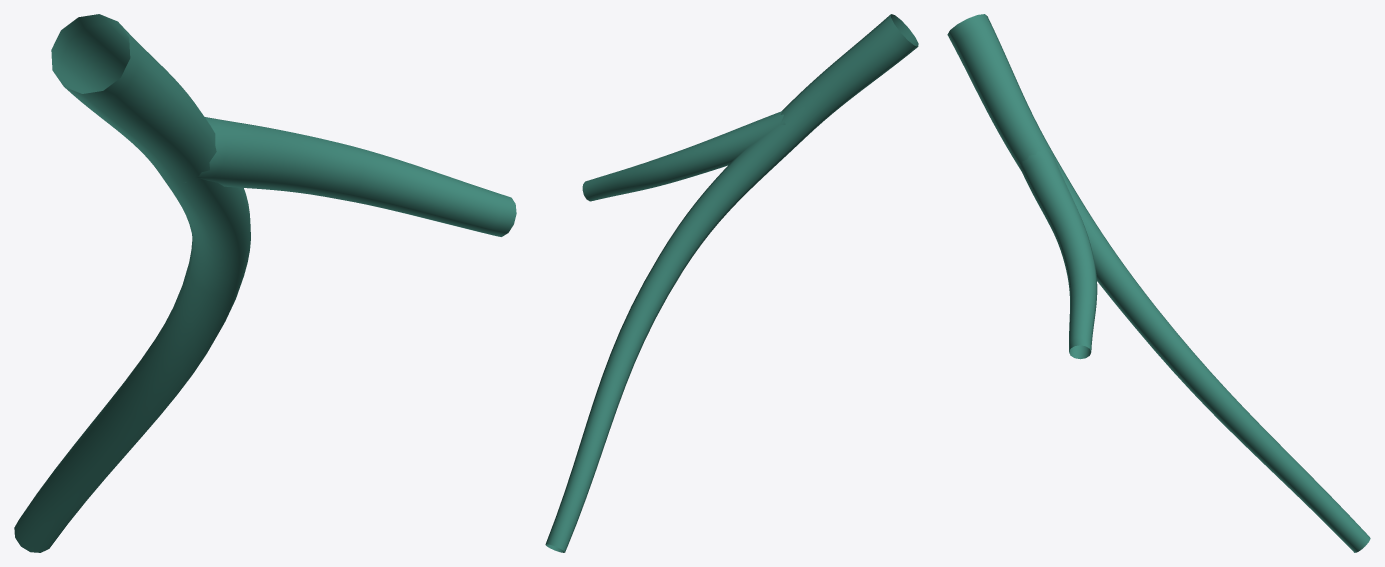
The picture shows the model from 3 angles, left to right: view 1: azimuth 30°, elevation 25°; view 2: azimuth 150°, elevation 25°; view 3: azimuth 270°, elevation 25°; orthographic projection. The views are drawn at different scales.
Visible parts, largest first — view 1: 左肺前底段支气管（第8段）; view 2: 左肺前底段支气管（第8段）; view 3: 左肺前底段支气管（第8段）.
Part boxes in pixels (left/top/right/bottom): 左肺前底段支气管（第8段）: left=14, top=14, right=516, bottom=552; 左肺前底段支气管（第8段）: left=545, top=14, right=918, bottom=552; 左肺前底段支气管（第8段）: left=947, top=14, right=1370, bottom=552.
Bounding box in the file's own units: 0.067 × 0.1005 × 0.0839.
